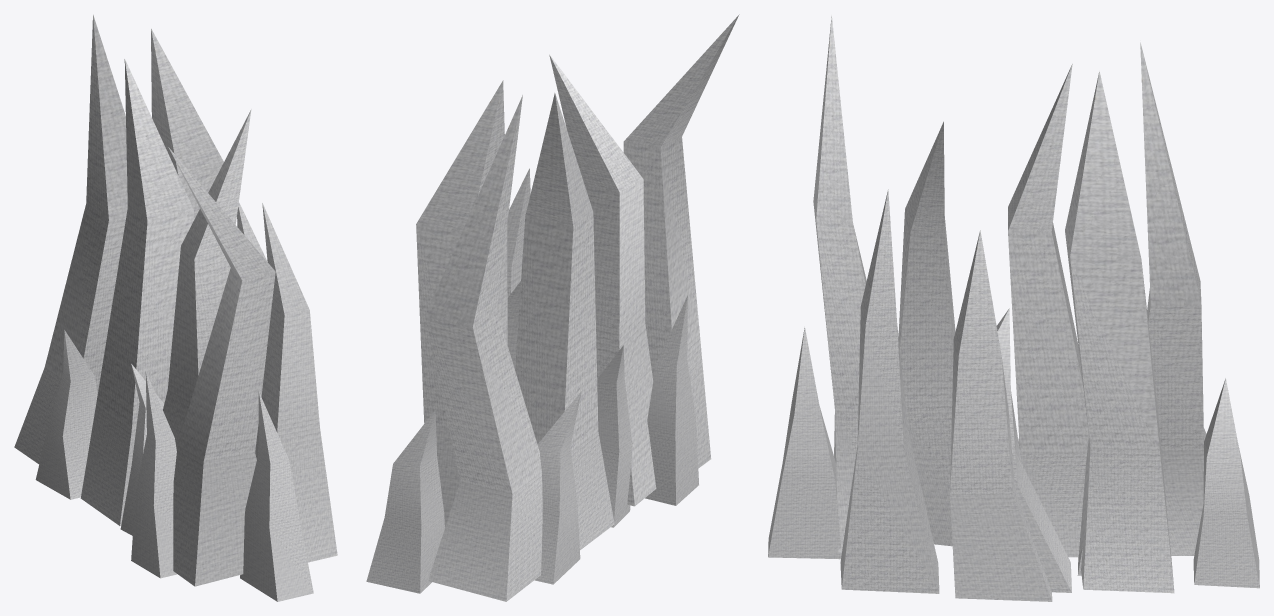
File: grass2.fbx
The picture shows the model from 3 angles, left to right: view 1: azimuth 30°, elevation 25°; view 2: azimuth 150°, elevation 25°; view 3: azimuth 270°, elevation 25°; orthographic projection. The views are drawn at different scales.
Parts seen in each view (by area): view 1: Pyramid002, Pyramid001, Pyramid007, Pyramid013, Pyramid003, Pyramid008, Pyramid004, Pyramid006, Pyramid012, Pyramid005, Pyramid014; view 2: Pyramid007, Pyramid001, Pyramid003, Pyramid002, Pyramid012, Pyramid010, Pyramid004, Pyramid006, Pyramid005, Pyramid014, Pyramid009; view 3: Pyramid012, Pyramid001, Pyramid014, Pyramid013, Pyramid007, Pyramid003, Pyramid002, Pyramid008, Pyramid010, Pyramid009.
Boxes of the visible parts, x1=… form: Pyramid002: x1=168, y1=147, x2=275, y2=586; Pyramid001: x1=80, y1=58, x2=193, y2=525; Pyramid007: x1=14, y1=14, x2=127, y2=464; Pyramid013: x1=255, y1=203, x2=337, y2=562; Pyramid003: x1=163, y1=109, x2=251, y2=450; Pyramid008: x1=240, y1=391, x2=313, y2=601; Pyramid004: x1=131, y1=371, x2=177, y2=578; Pyramid006: x1=35, y1=330, x2=97, y2=499; Pyramid012: x1=151, y1=28, x2=223, y2=220; Pyramid005: x1=120, y1=364, x2=164, y2=535; Pyramid014: x1=237, y1=202, x2=267, y2=261; Pyramid007: x1=425, y1=95, x2=542, y2=601; Pyramid001: x1=515, y1=93, x2=614, y2=549; Pyramid003: x1=549, y1=54, x2=656, y2=506; Pyramid002: x1=623, y1=14, x2=739, y2=468; Pyramid012: x1=416, y1=80, x2=507, y2=527; Pyramid010: x1=366, y1=410, x2=444, y2=593; Pyramid004: x1=645, y1=295, x2=698, y2=505; Pyramid006: x1=534, y1=391, x2=581, y2=584; Pyramid005: x1=597, y1=345, x2=632, y2=527; Pyramid014: x1=507, y1=168, x2=530, y2=297; Pyramid009: x1=507, y1=281, x2=520, y2=369; Pyramid012: x1=1065, y1=71, x2=1174, y2=593; Pyramid001: x1=1008, y1=63, x2=1088, y2=557; Pyramid014: x1=950, y1=230, x2=1052, y2=601; Pyramid013: x1=840, y1=189, x2=939, y2=593; Pyramid007: x1=1140, y1=42, x2=1206, y2=555; Pyramid003: x1=898, y1=121, x2=955, y2=546; Pyramid002: x1=813, y1=15, x2=866, y2=553; Pyramid008: x1=768, y1=326, x2=841, y2=559; Pyramid010: x1=1193, y1=378, x2=1259, y2=588; Pyramid009: x1=950, y1=308, x2=1071, y2=592.
Bounding box in the file's own units: 1.87 × 4.28 × 3.84.
1 material, 1 textured.
